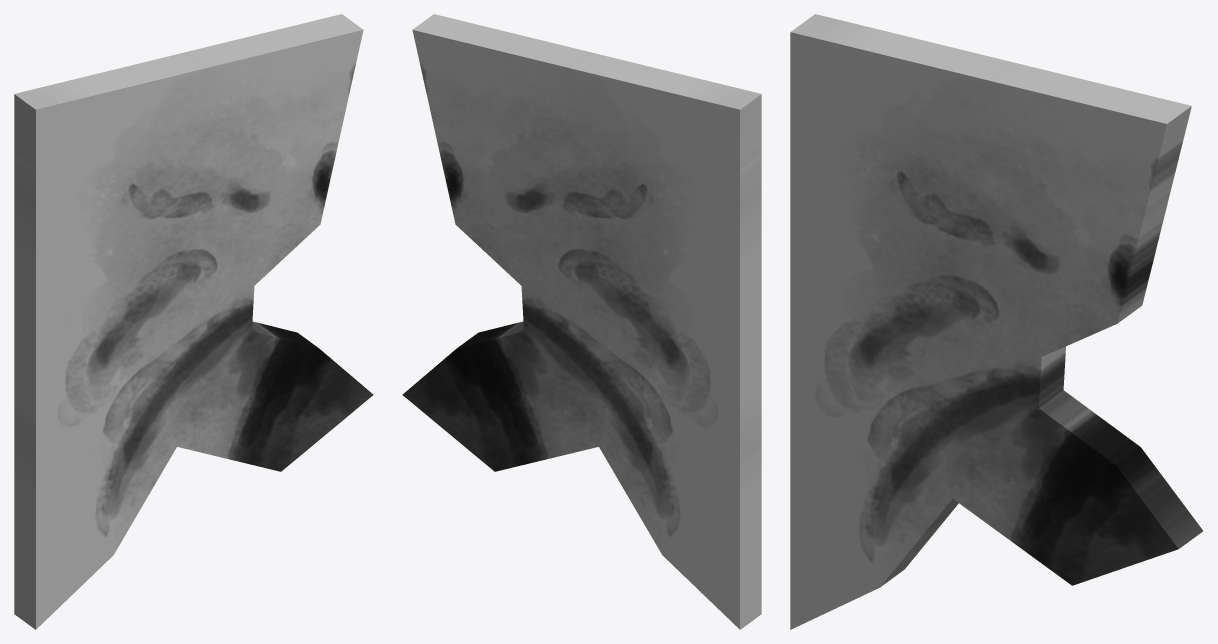
Rendered from Rorschachtest 1.fbx.
3 views of the same model, side by side, from view 1: azimuth 30°, elevation 25°; view 2: azimuth 150°, elevation 25°; view 3: azimuth 330°, elevation 25° (orthographic). The views are drawn at different scales.
Visible parts, largest first — view 1: Rohrschachtest 1; view 2: Rohrschachtest 1; view 3: Rohrschachtest 1.
Part boxes in pixels (x1,y1,x2,y2): Rohrschachtest 1: (14, 14, 373, 629); Rohrschachtest 1: (402, 14, 761, 629); Rohrschachtest 1: (790, 14, 1202, 629).
Bounding box in the file's own units: 19.24 × 28.31 × 2.13.
